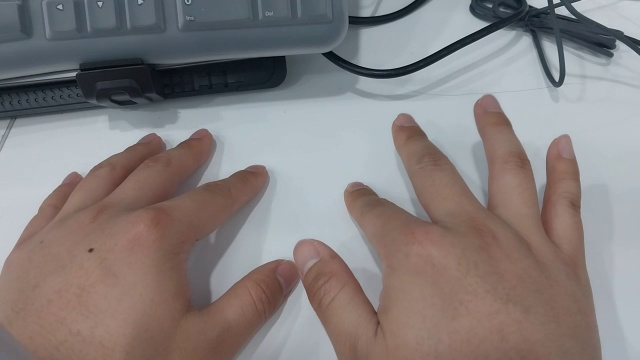fingers: (293, 238, 322, 278), (274, 258, 301, 296), (555, 132, 575, 160), (477, 92, 502, 113), (393, 112, 417, 127), (60, 170, 79, 187), (189, 127, 211, 141), (137, 131, 159, 144), (242, 163, 267, 174), (345, 180, 366, 193)
